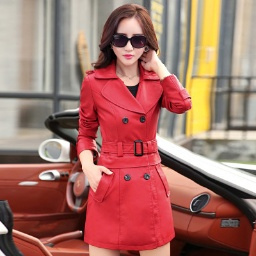face: (92, 2, 159, 77)
